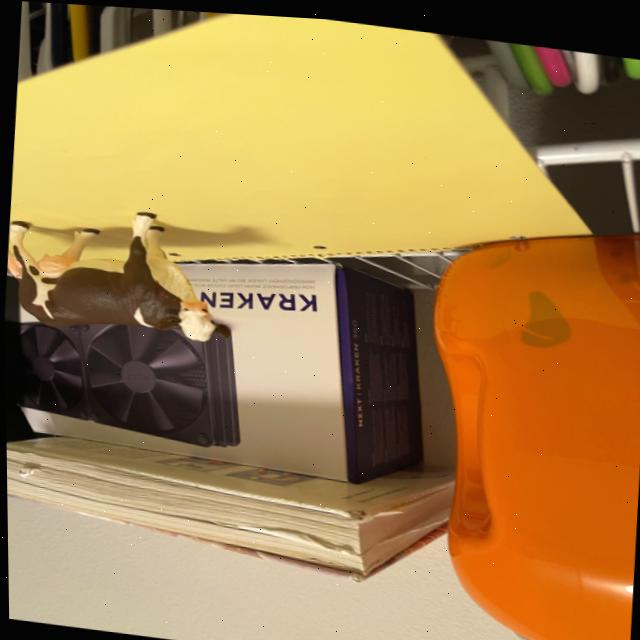cow: (0, 198, 233, 340)
